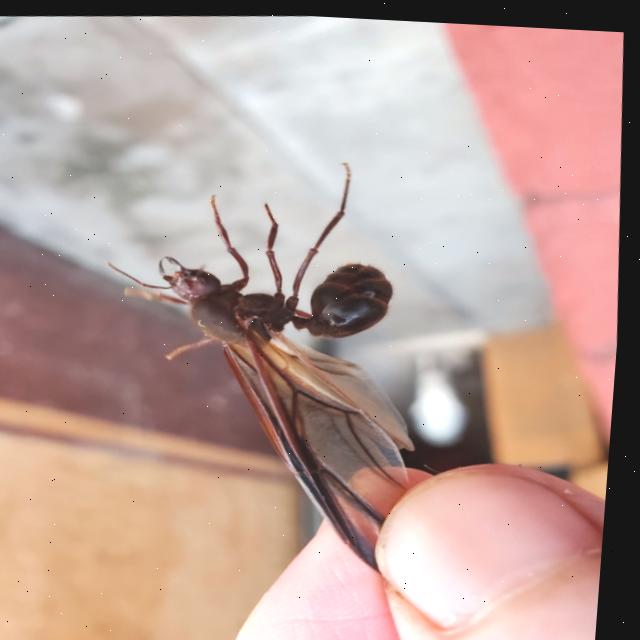Alive-Female-Alate: (86, 144, 446, 587)
